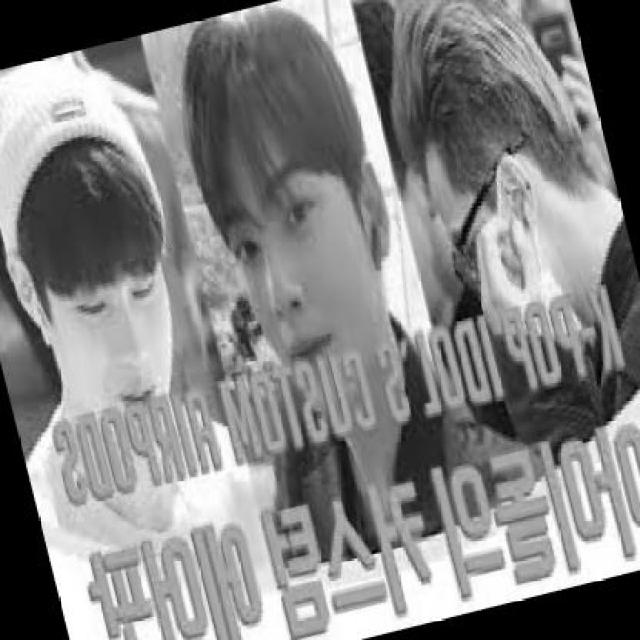earphone: (494, 186, 561, 265), (14, 277, 75, 361), (354, 198, 405, 280)
